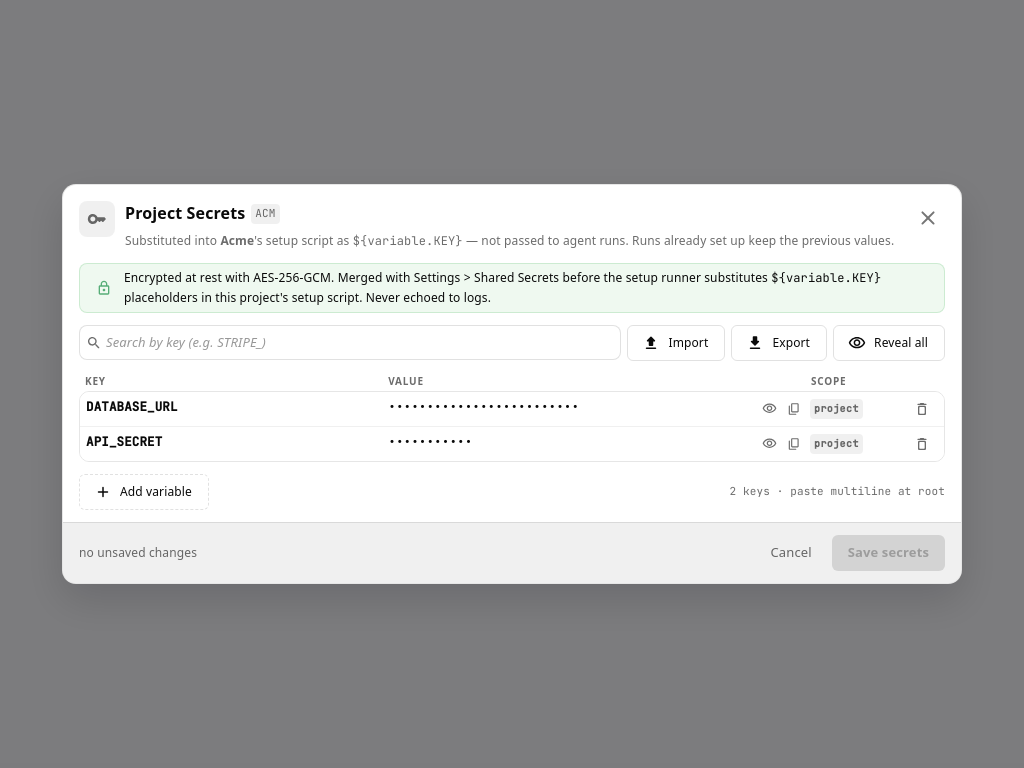
ProjectEnvSecretsModal — form interactions › Save is disabled when there are validation errors (empty key)
Expected: the 1st field showing "DATABASE_URL" is shown, [86,397,384,421]
Add an empty-key row — that triggers "Key required" validation error
What coordinates should you click on to do the following:
click the button "Add variable"
I would click on:
 (144, 492)
Its box is [79,474,209,510].
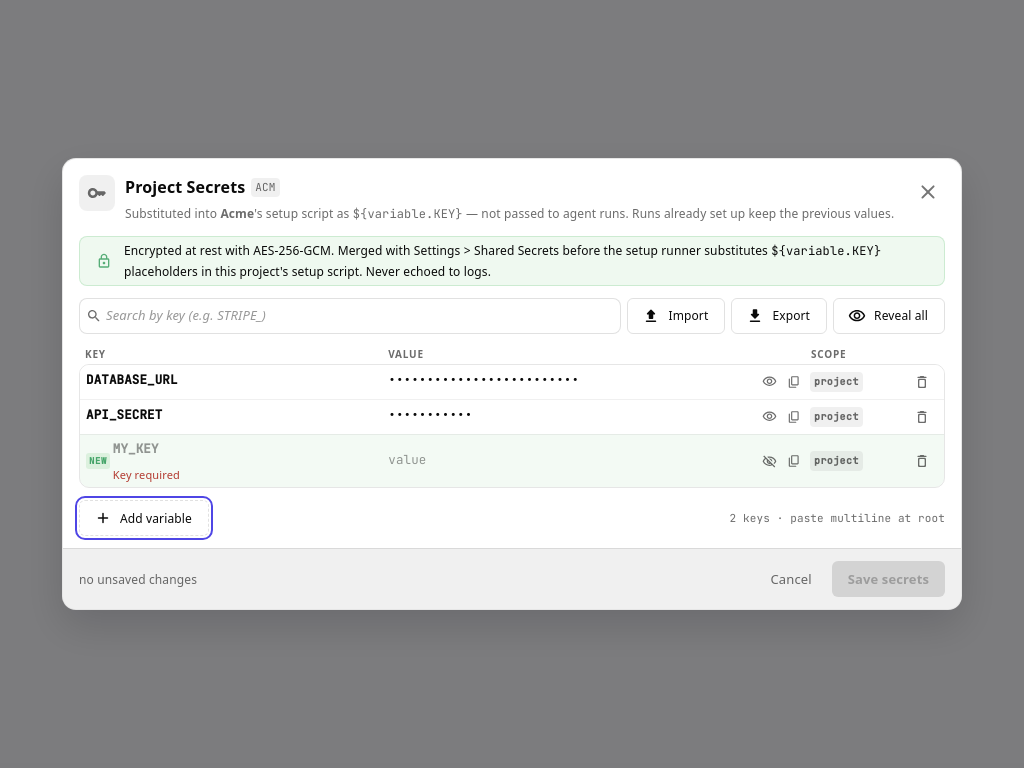
Expected: the button "Save secrets" is disabled, [832,561,945,597]
Expected: the text "Key required" is shown, [113,467,180,482]
